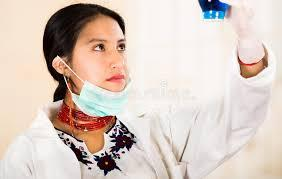Wore Mask Incorrectly: (49, 11, 144, 124)
